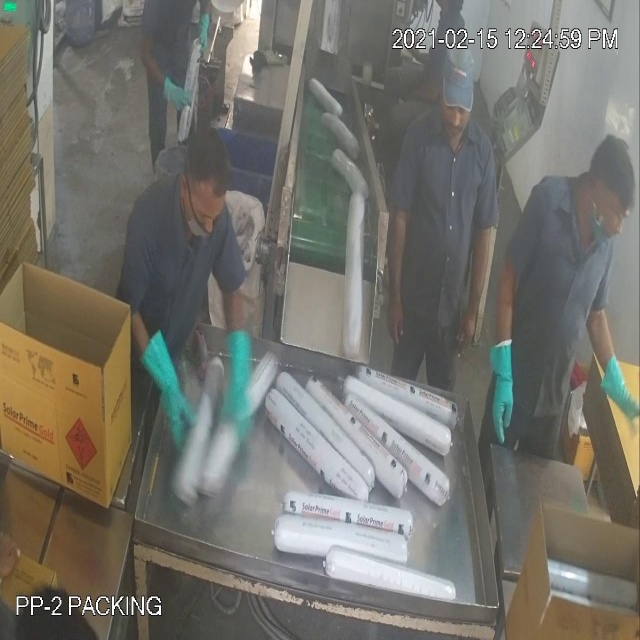Guantes: (130, 305, 198, 454), (218, 316, 262, 461), (484, 325, 524, 453), (594, 336, 640, 425)
Sin_guantes: (458, 193, 502, 358), (384, 194, 416, 354)
